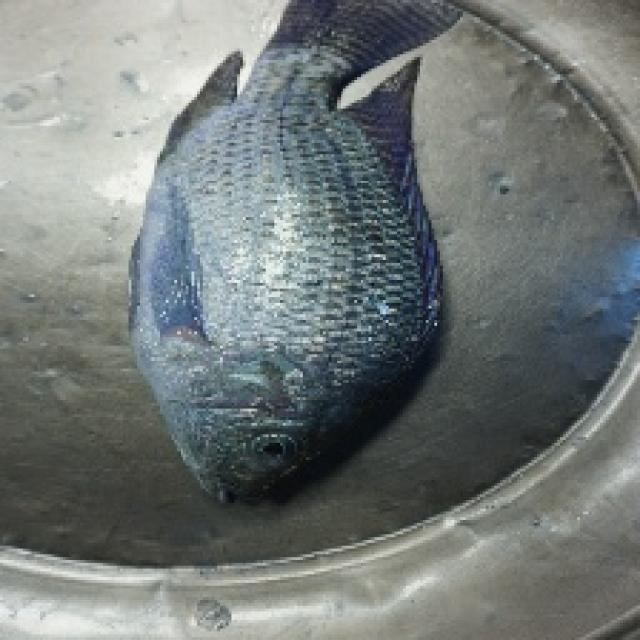Fresh: (127, 37, 473, 515)
